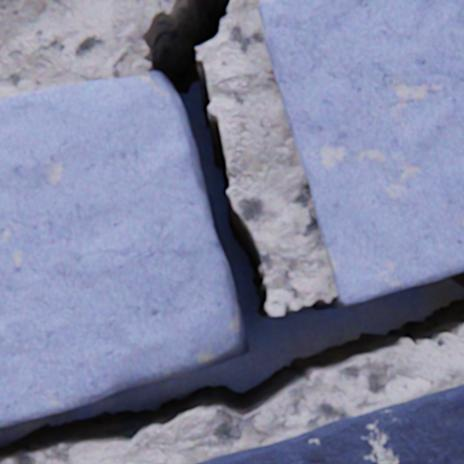brick: (0, 78, 228, 427), (259, 0, 463, 304), (197, 384, 463, 463)
crack: (0, 0, 463, 463)
